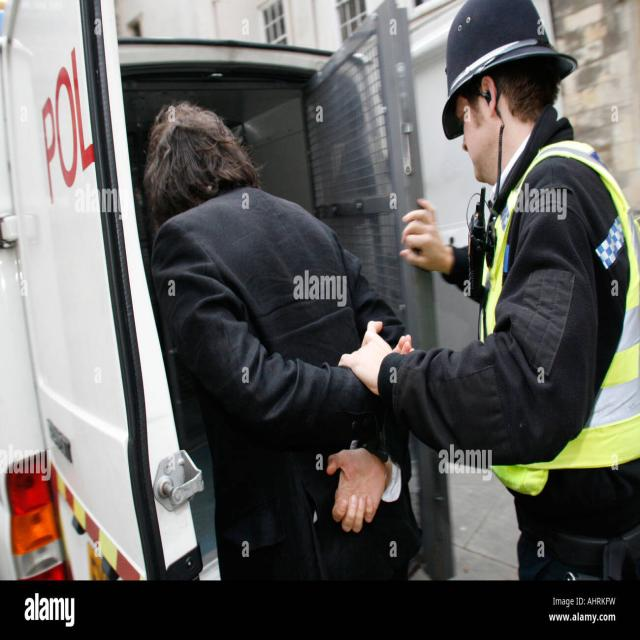police: (369, 0, 640, 603)
